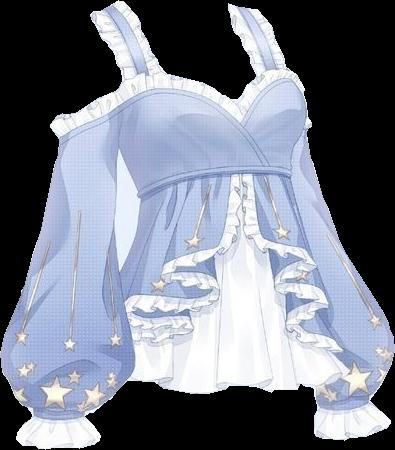Bodice: (90, 1, 347, 393)
Neckline: (120, 0, 260, 105), (123, 74, 294, 129), (122, 68, 288, 106), (135, 167, 292, 202)
Sleeve: (0, 79, 137, 448)
Sleeveline: (51, 85, 126, 122), (31, 410, 86, 422)
Waistline: (101, 171, 246, 353), (238, 170, 342, 351), (105, 370, 347, 392)
